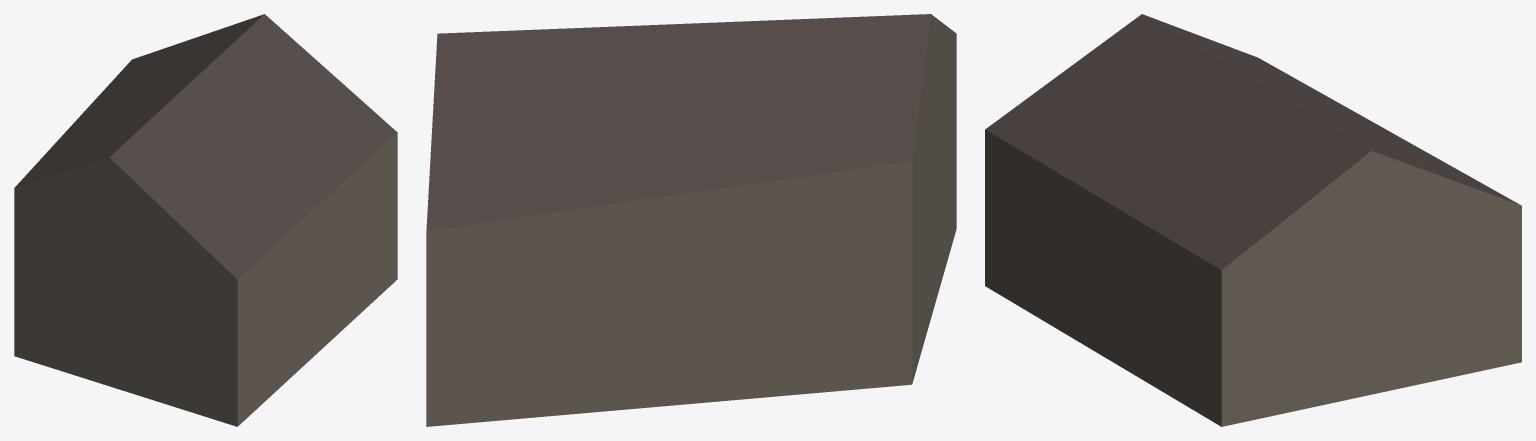
3 renders of one model, left to right at view 1: azimuth 30°, elevation 25°; view 2: azimuth 150°, elevation 25°; view 3: azimuth 270°, elevation 25°, orthographic. The views are drawn at different scales.
Parts seen in each view (by area): view 1: HP-w369342465; view 2: HP-w369342465; view 3: HP-w369342465.
Boxes of the visible parts, left/top/right/bottom form: HP-w369342465: left=14, top=14, right=397, bottom=426; HP-w369342465: left=426, top=14, right=956, bottom=426; HP-w369342465: left=985, top=14, right=1521, bottom=426.
Size of the model in its own units: 23.42 by 14.01 by 27.95.
